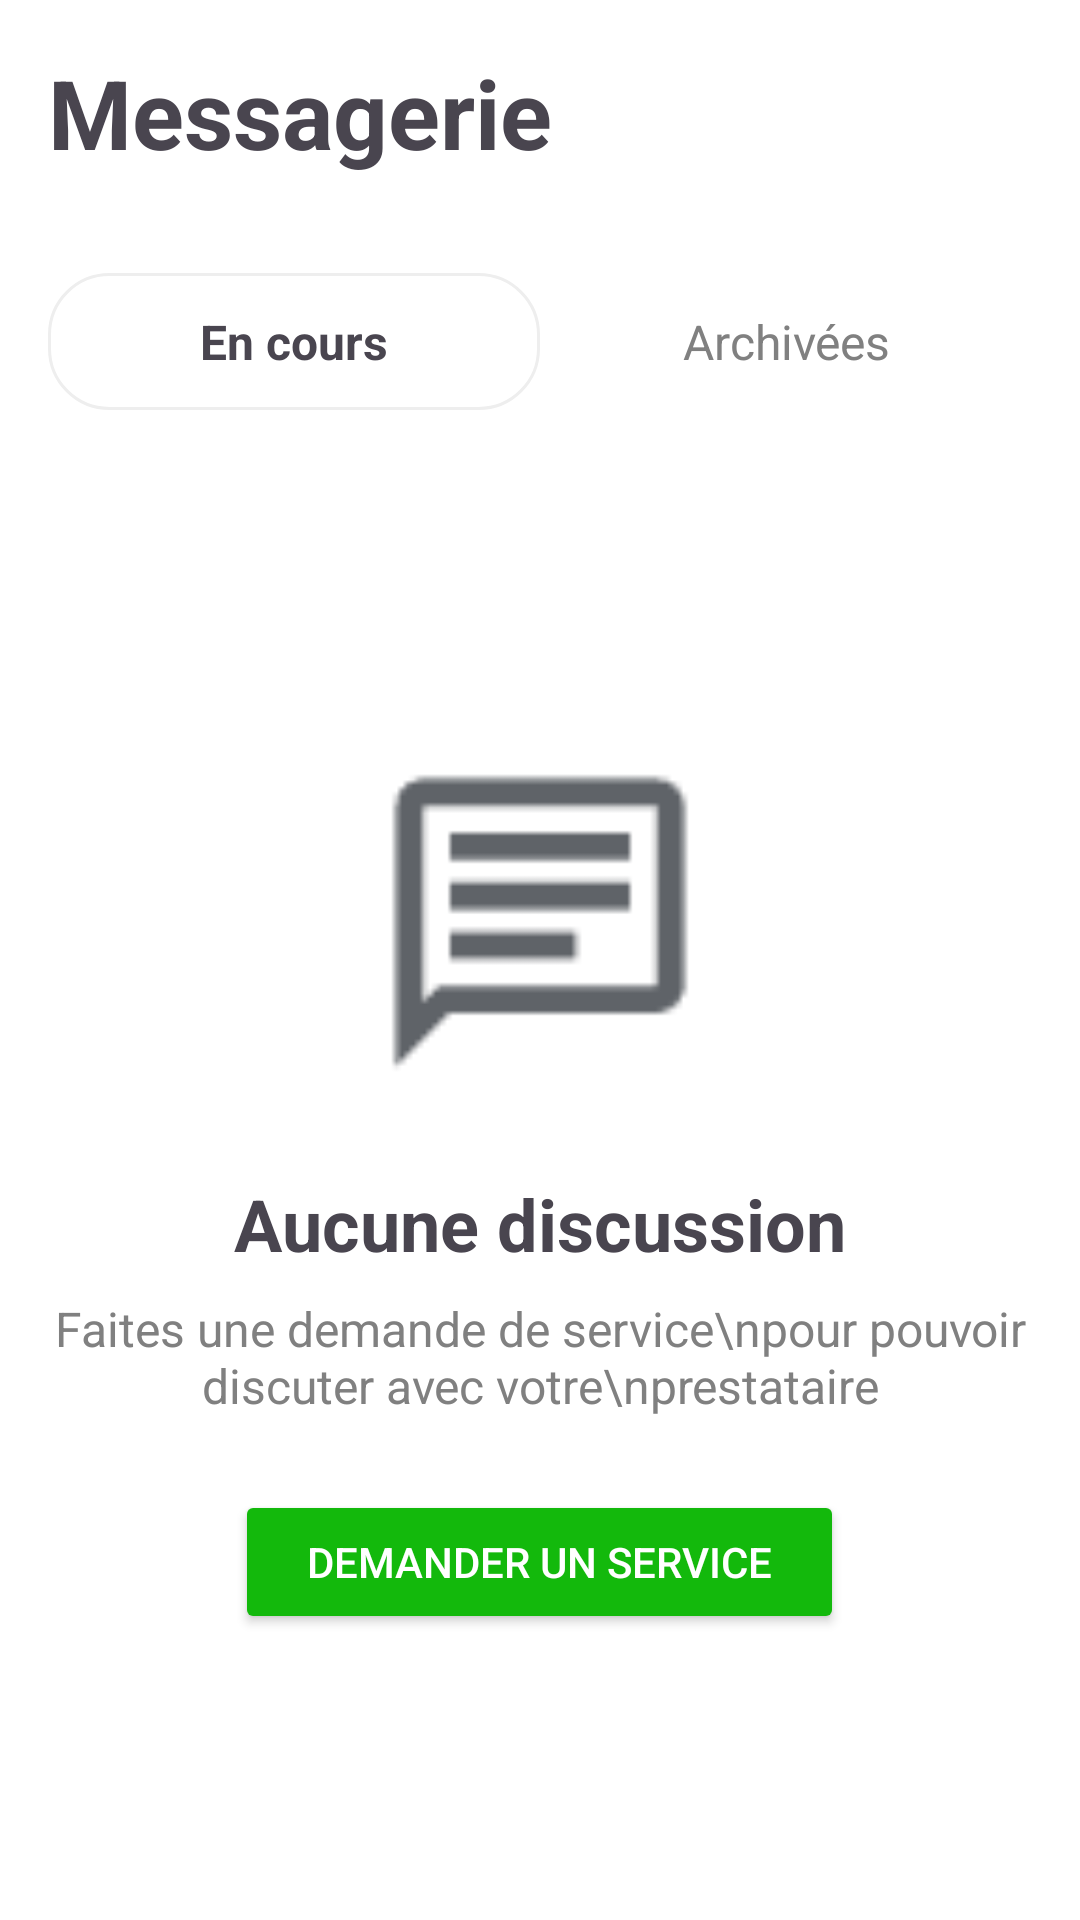

Screen size 1080px×1920px. Icon name, then its box in pixels as bbox(x1, y1, x2, y2):
empty messages: bbox(392, 775, 688, 1066)
